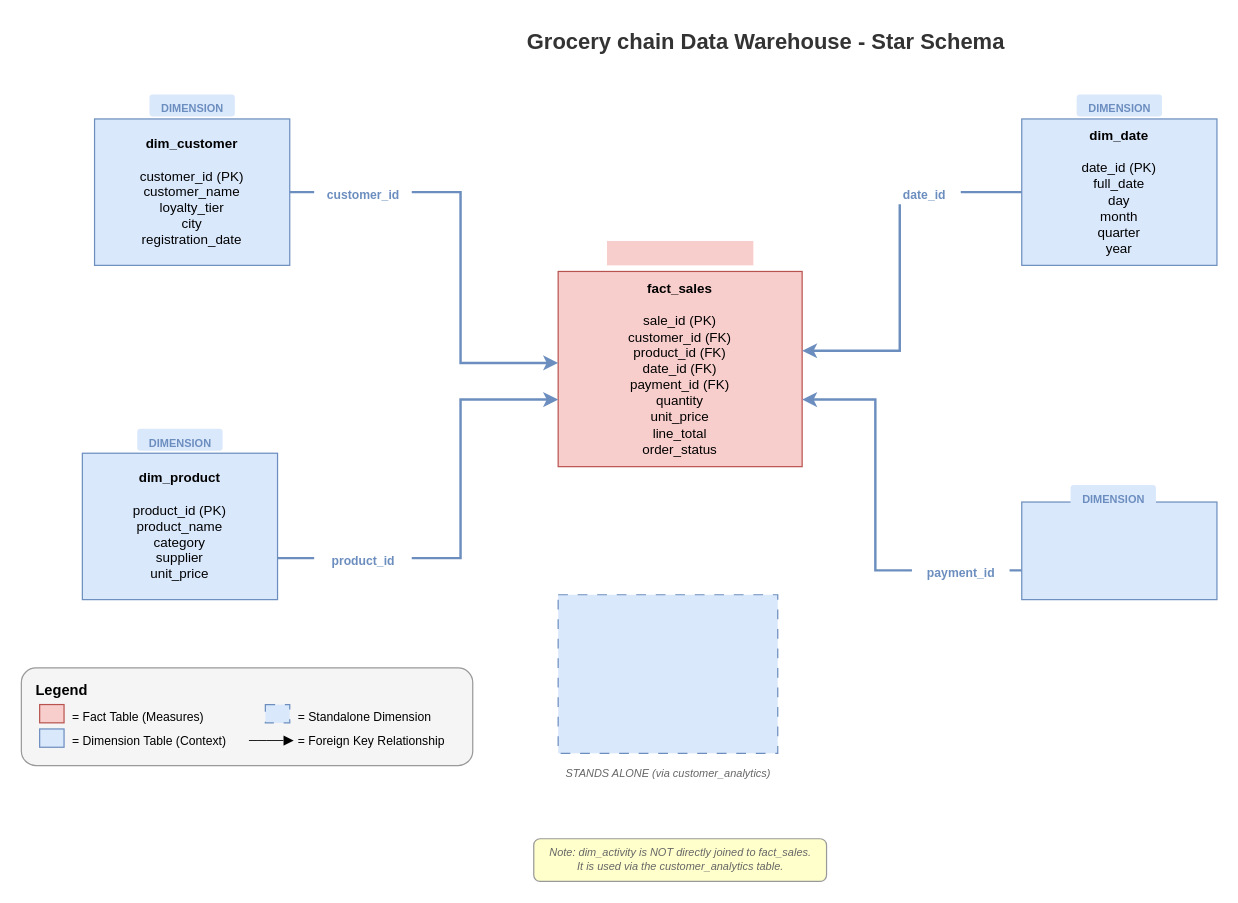
Image size: 1238x903. Some labels were removed from this diagram. The box of each missing label's shape, as (x1, y1, x2, y2) in pixels:
dim_activity activity_id (PK) activity_type Viewed Added to Cart Purchased: (557, 594, 778, 753)
dim_payment payment_id (PK) payment_method: (1021, 501, 1217, 600)
FACT TABLE: (606, 240, 753, 265)
